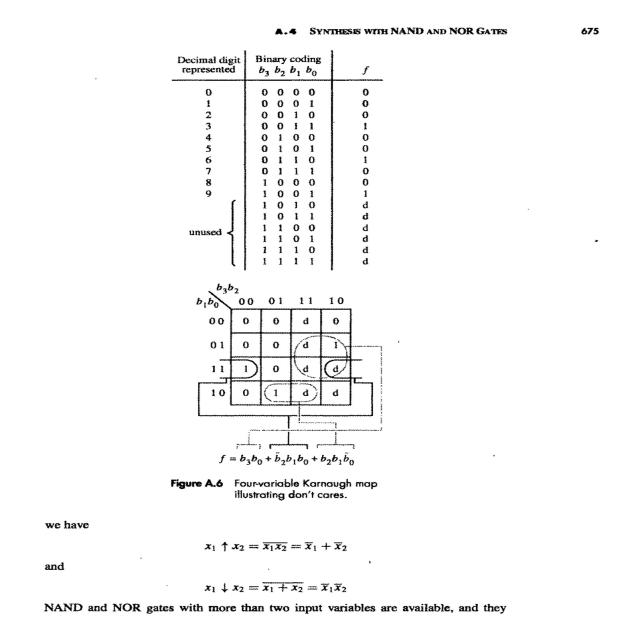diagram: (45, 41, 582, 514)
